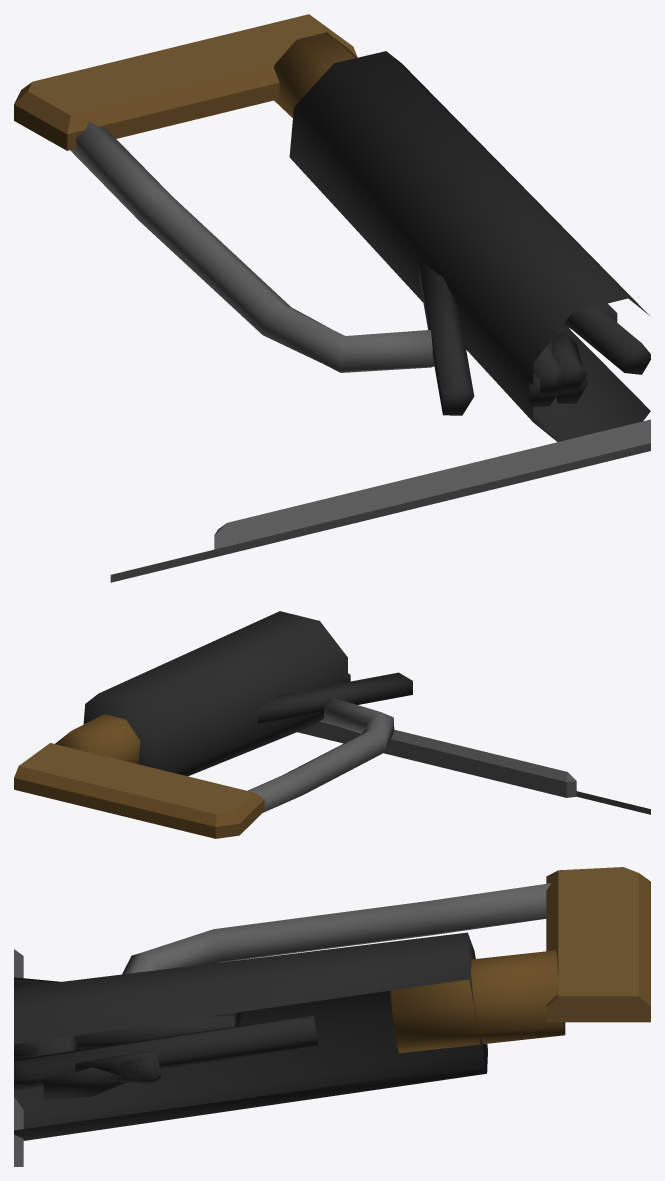
File: newshp-9.glb
The picture shows the model from 3 angles, top to bottom: view 1: azimuth 30°, elevation 25°; view 2: azimuth 150°, elevation 25°; view 3: azimuth 270°, elevation 25°; orthographic projection. The views are drawn at different scales.
Parts seen in each view (by area): view 1: newshp-9; view 2: newshp-9; view 3: newshp-9.
Part boxes in pixels (x1,y1,x2,y2): newshp-9: [14, 14, 650, 582]; newshp-9: [14, 611, 650, 838]; newshp-9: [14, 867, 650, 1166].
Bounding box in the file's own units: 2 × 0.7882 × 2.23.
